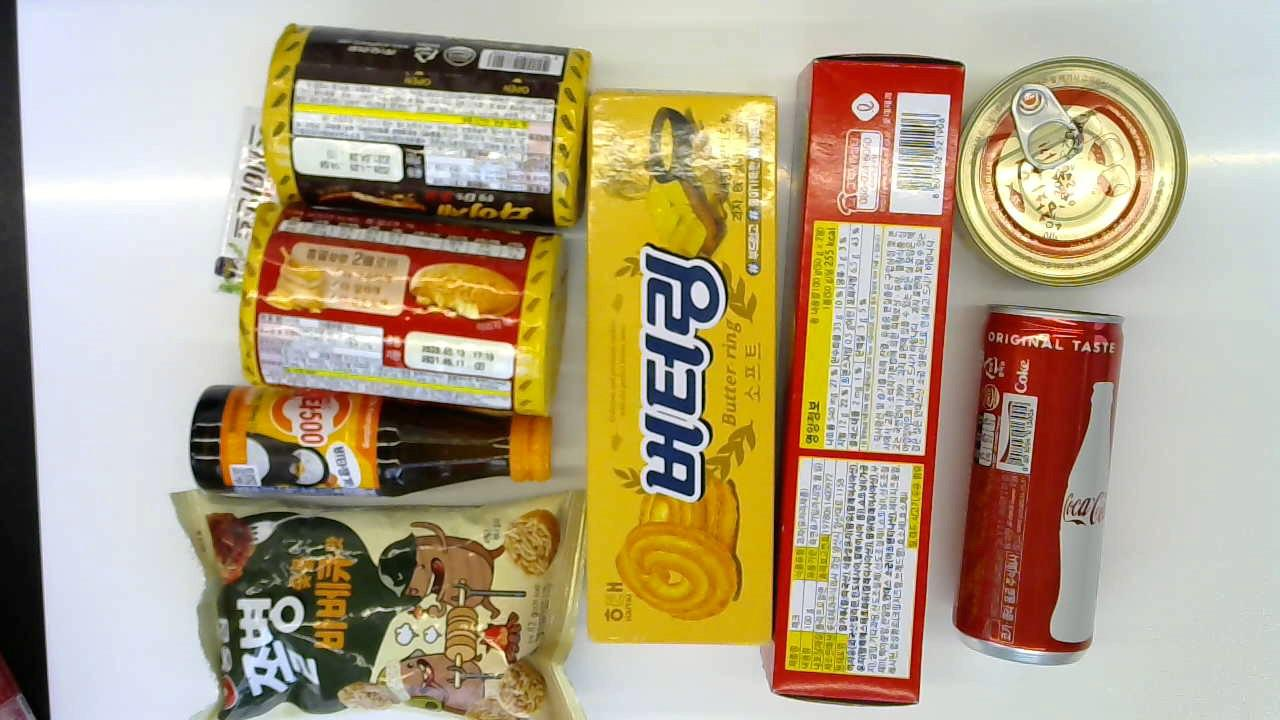buttering: (582, 83, 777, 646)
coke: (954, 303, 1128, 667)
diget_choco: (261, 24, 589, 232)
diget_ori: (234, 201, 575, 420)
jjolbyung_ori: (164, 488, 588, 720)
spearmint: (213, 104, 281, 293)
tuna: (961, 57, 1190, 285)
vita500: (184, 384, 565, 508)
zec: (757, 49, 963, 707)
